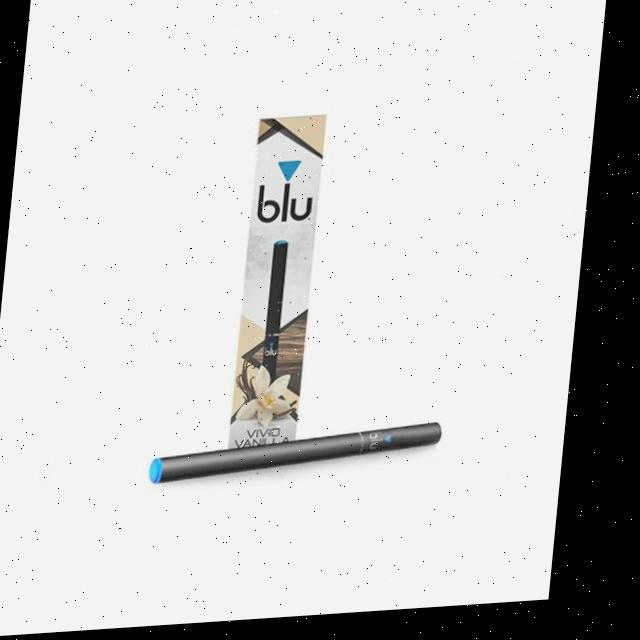vape: (156, 428, 452, 488), (267, 243, 294, 389)
